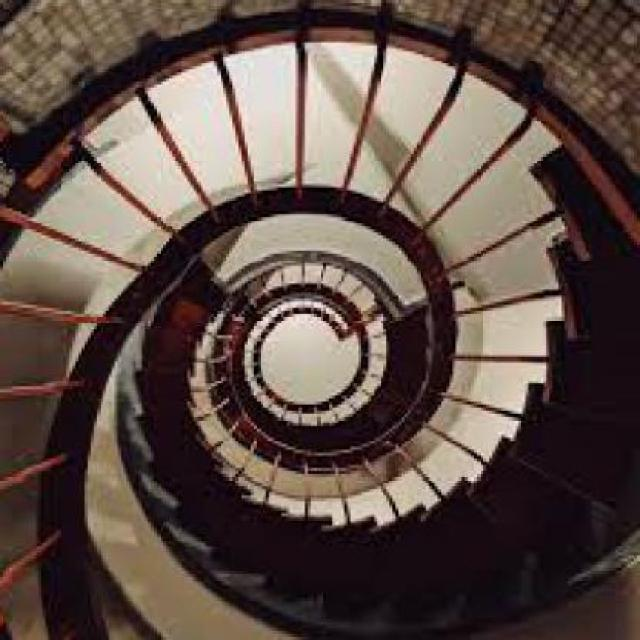stair: (9, 112, 637, 638)
